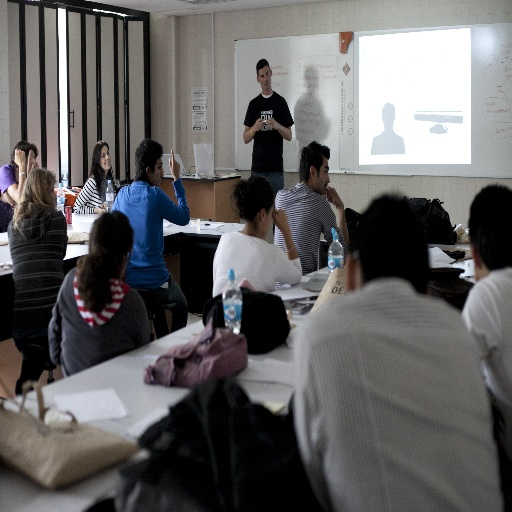hand: (325, 184, 345, 208), (168, 147, 181, 178), (271, 206, 286, 229), (27, 146, 38, 175), (12, 146, 25, 165), (252, 116, 264, 132), (267, 116, 277, 131), (96, 204, 106, 214)
